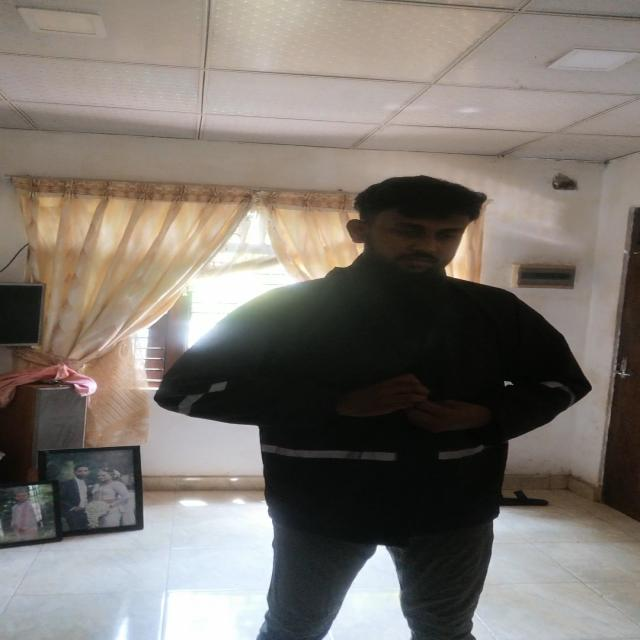Jacket_Wearer: (152, 265, 598, 540)
Person: (163, 175, 603, 640)
